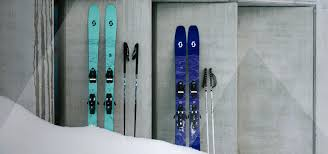skis: (84, 6, 120, 133), (173, 24, 203, 150)
